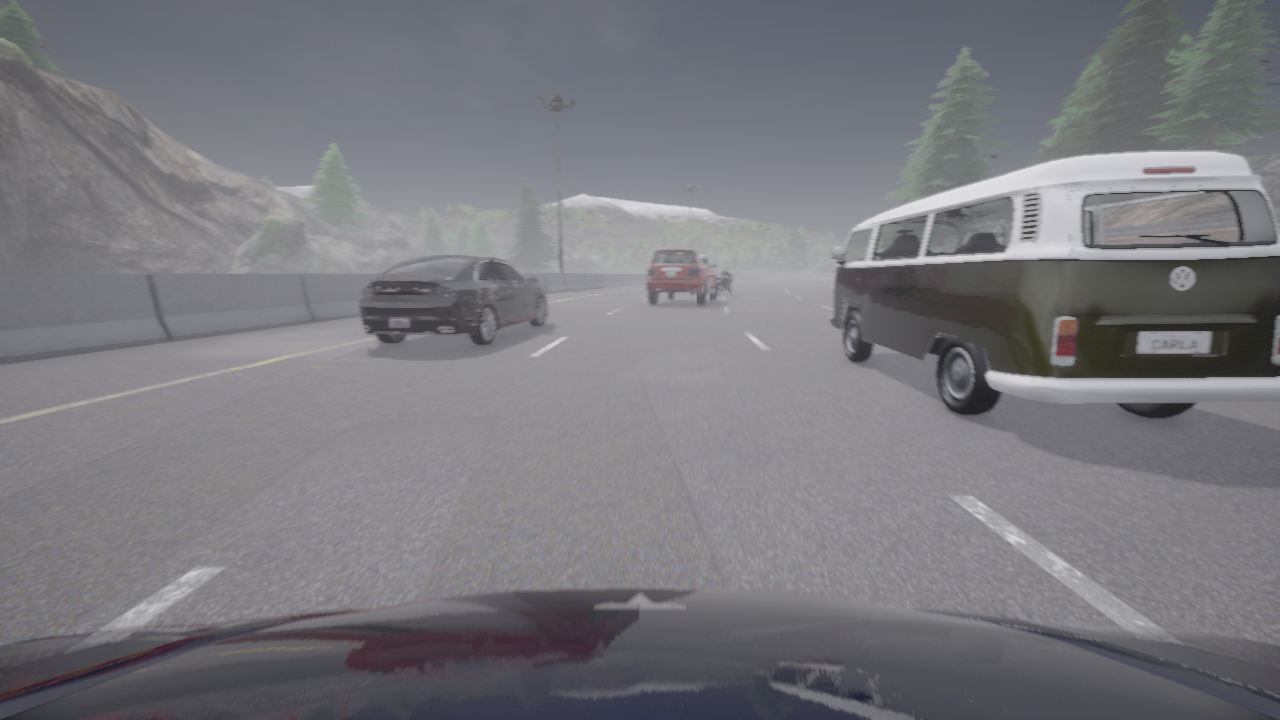cyclist: (0, 588, 1279, 719), (829, 151, 1279, 418), (358, 255, 547, 345), (645, 248, 717, 305), (717, 274, 732, 295)
